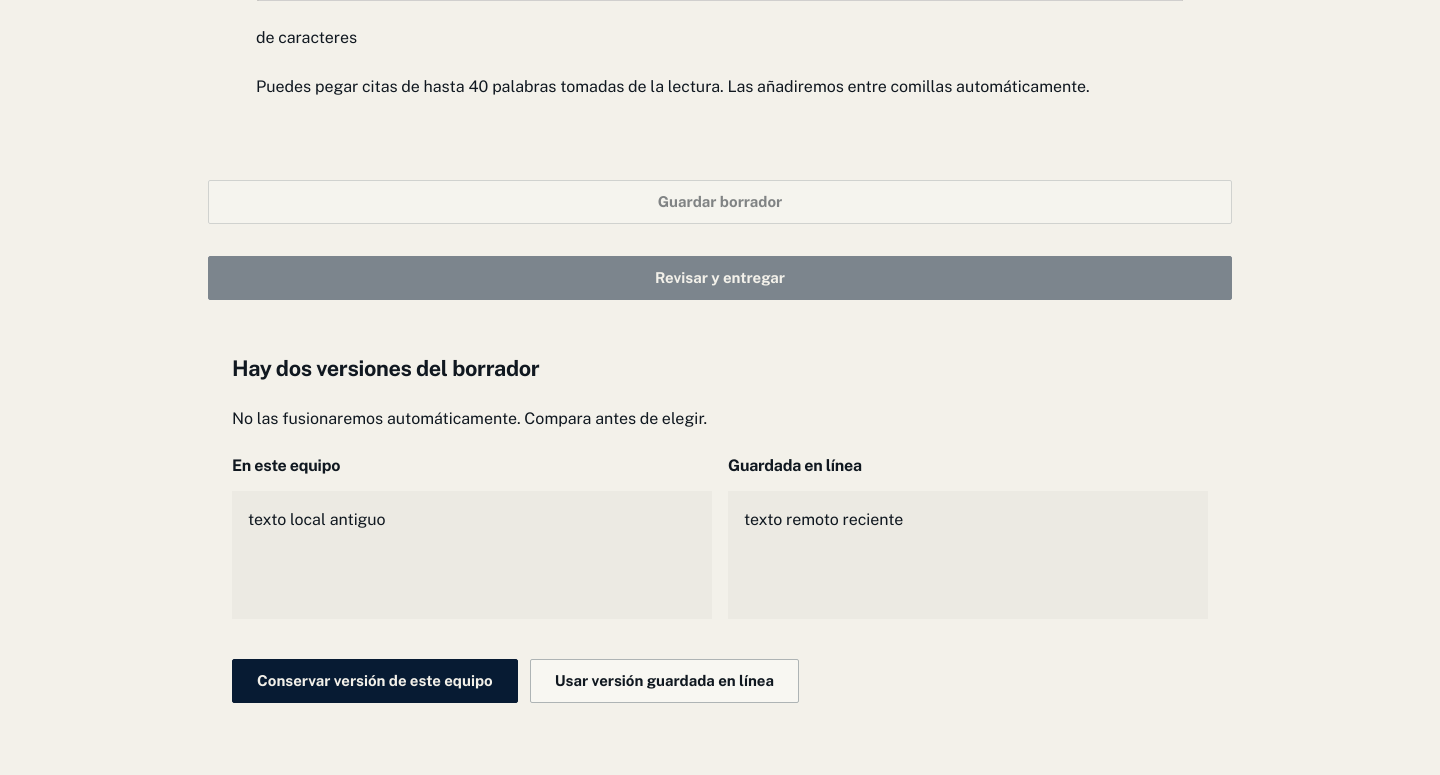
no mezcla un borrador local antiguo con la versión remota nueva
(page scrolled)
Expected: the heading "Hay dos versiones del borrador" is shown, left=232, top=355, right=539, bottom=381
Step 1. Click the button "Usar versión guardada en línea" → [664, 681], box left=530, top=659, right=799, bottom=703
(page scrolled)
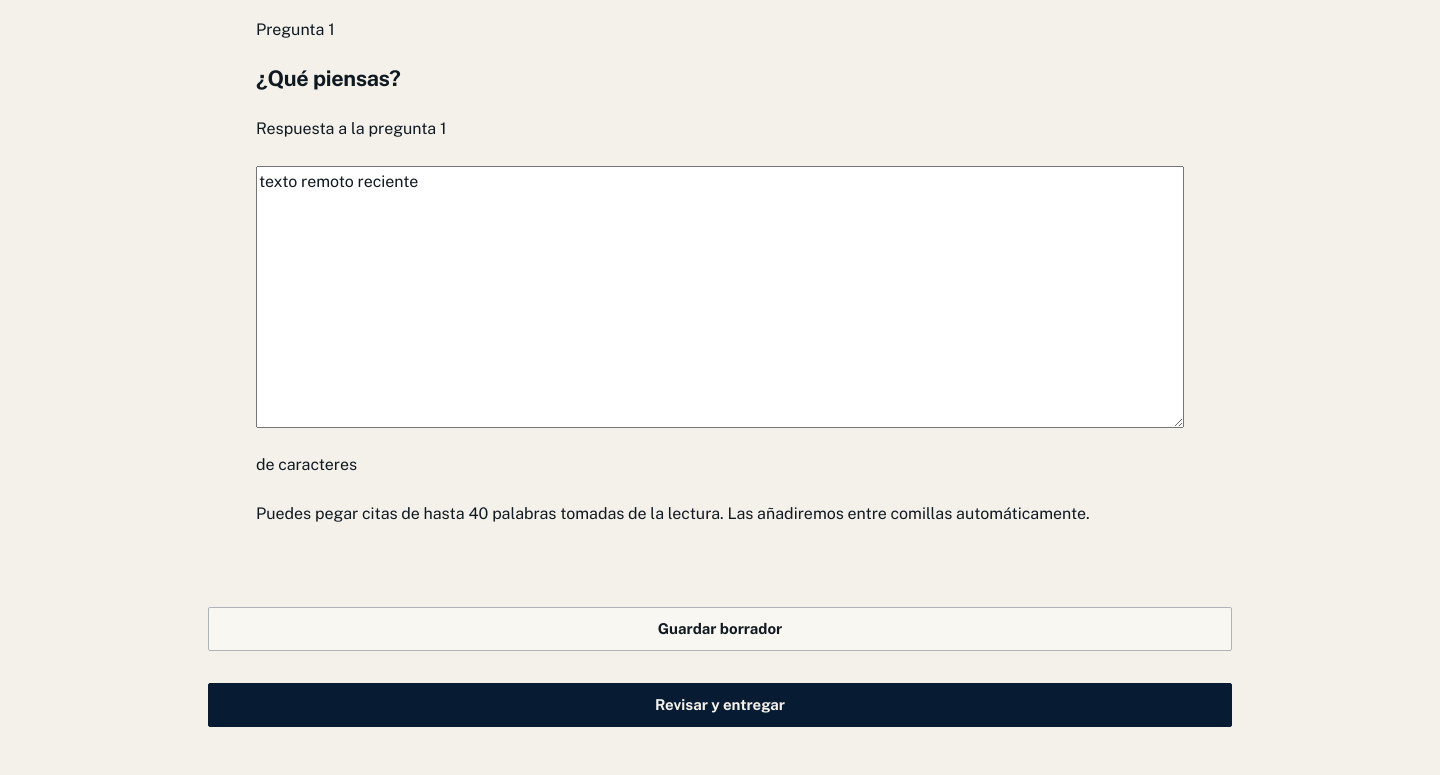
Now the heading "Hay dos versiones del borrador" is gone
